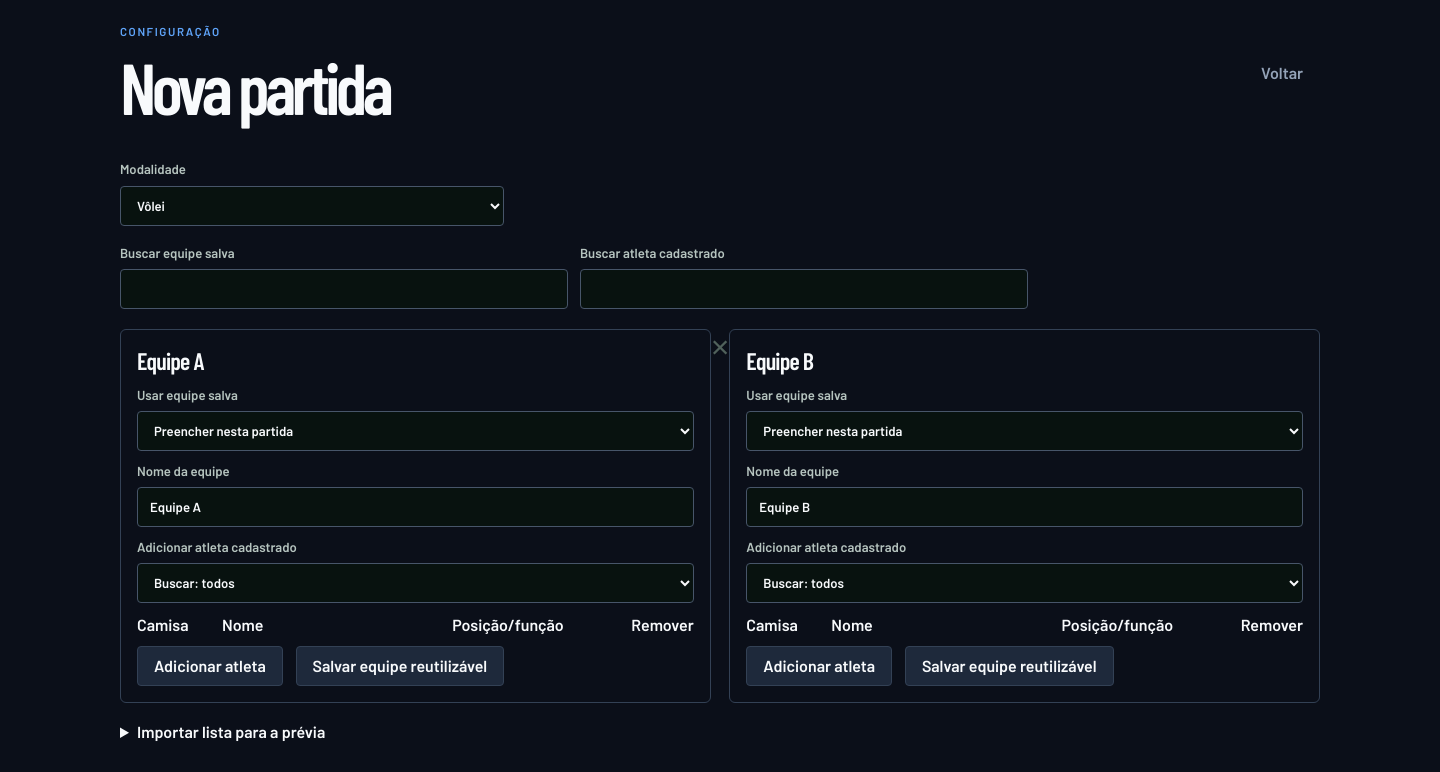
Test: NewMatchScreen sport separation › keeps volleyball setup available without inventing a demonstration roster
Click the 1st button "Adicionar atleta" at (210, 666), box [137,646,283,686]
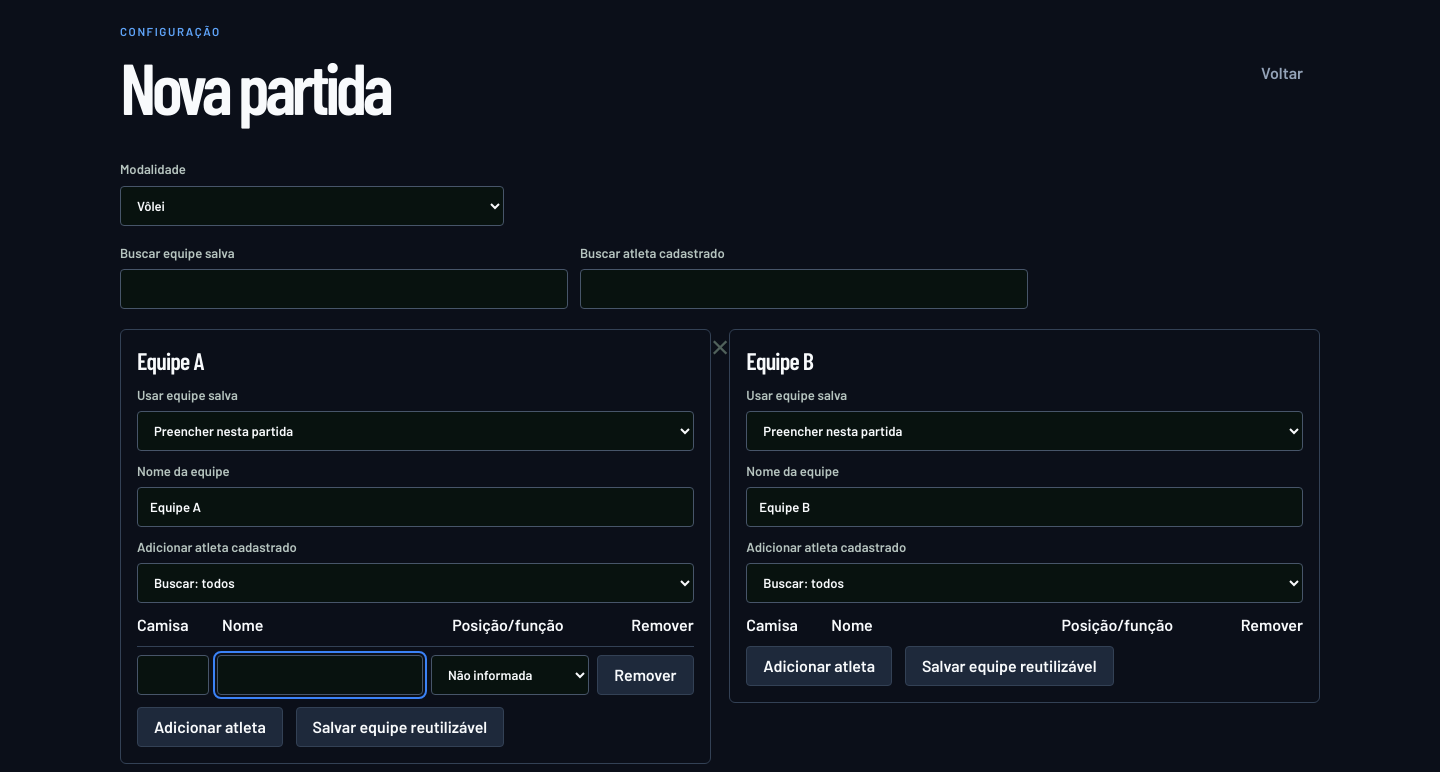
Expected: the 2nd field named "Nome Equipe A 1" is shown, [217,654,423,694]
